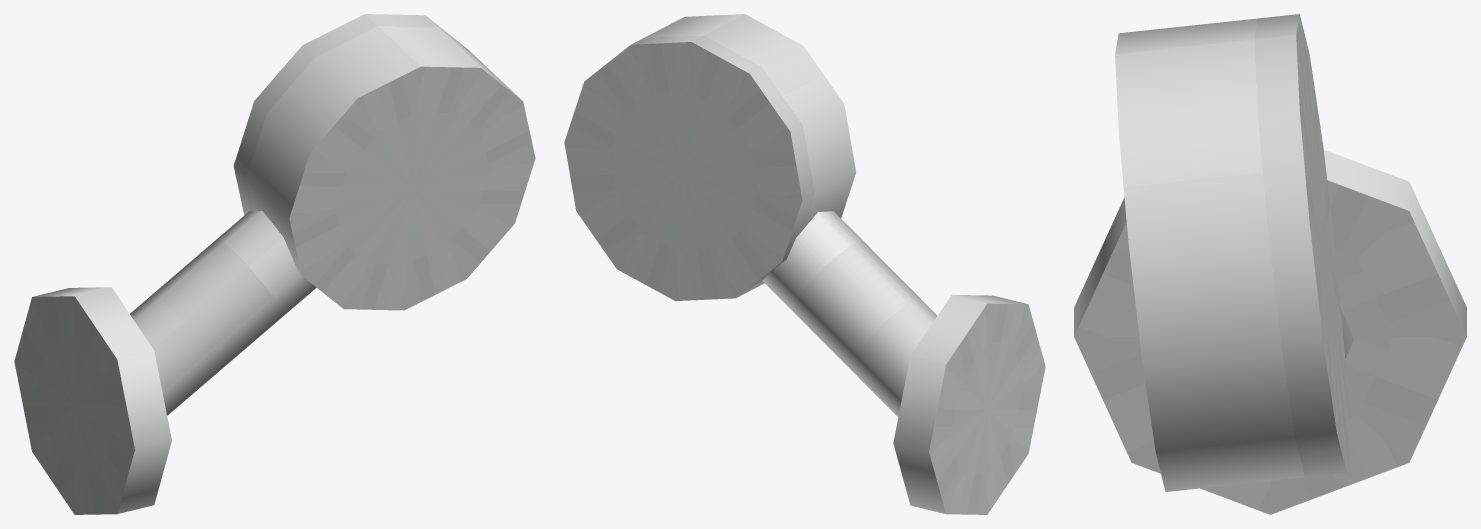
File: trusssignalarm_stub_50.obj
3 views of the same model, side by side, from view 1: azimuth 30°, elevation 25°; view 2: azimuth 150°, elevation 25°; view 3: azimuth 270°, elevation 25° (orthographic). The views are drawn at different scales.
Parts seen in each view (by area): view 1: trusssignalarm_stub_50; view 2: trusssignalarm_stub_50; view 3: trusssignalarm_stub_50.
Boxes of the visible parts, bbox=[...] form: trusssignalarm_stub_50: bbox=[14, 14, 535, 514]; trusssignalarm_stub_50: bbox=[564, 14, 1045, 514]; trusssignalarm_stub_50: bbox=[1074, 14, 1466, 514].
Bounding box in the file's own units: 0.7056 × 0.6758 × 0.35.
